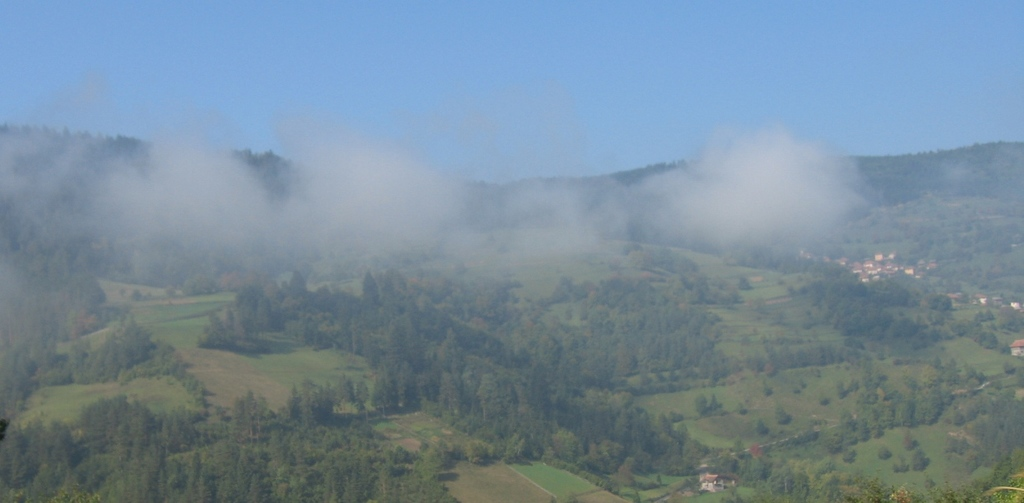Tree: (0, 122, 1024, 503)
